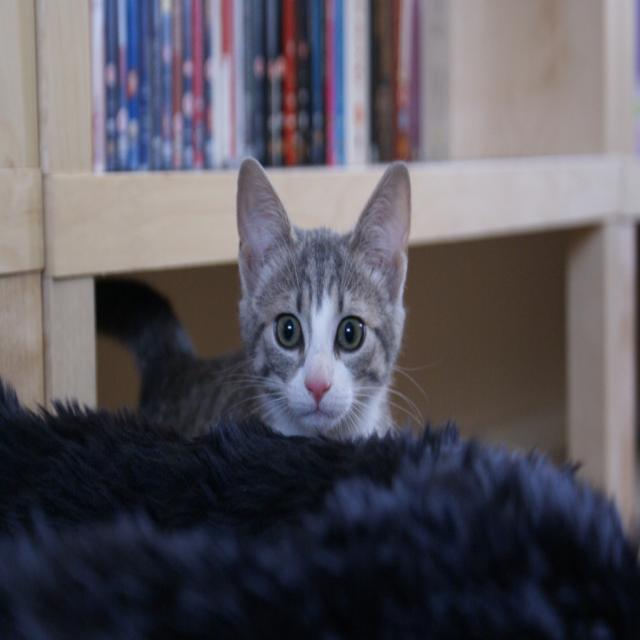Cat: (94, 160, 442, 444)
